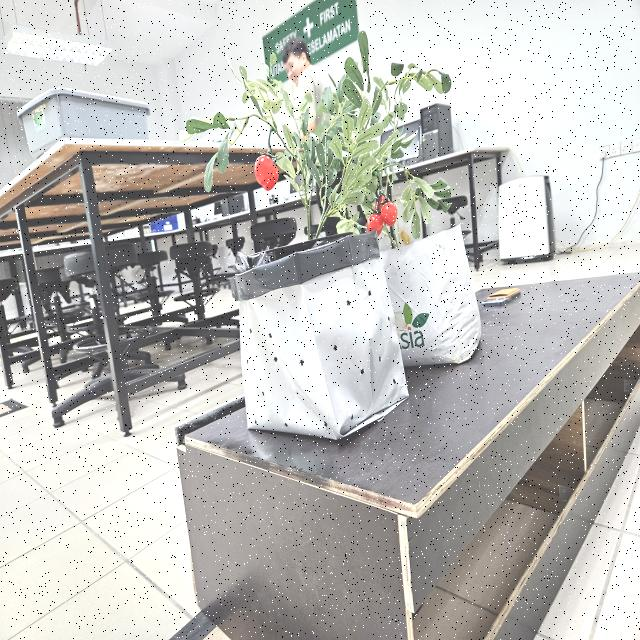Soilbag: (232, 233, 408, 443), (383, 228, 483, 367)
Tomato: (367, 194, 397, 237), (253, 156, 285, 194)
plant: (168, 32, 466, 249)
